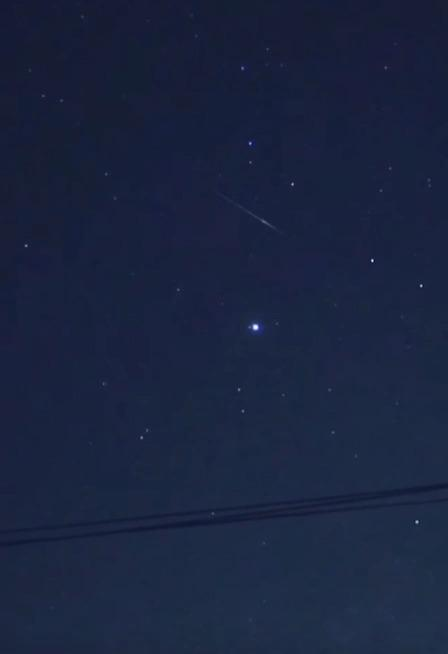meteorite: (211, 190, 301, 240)
